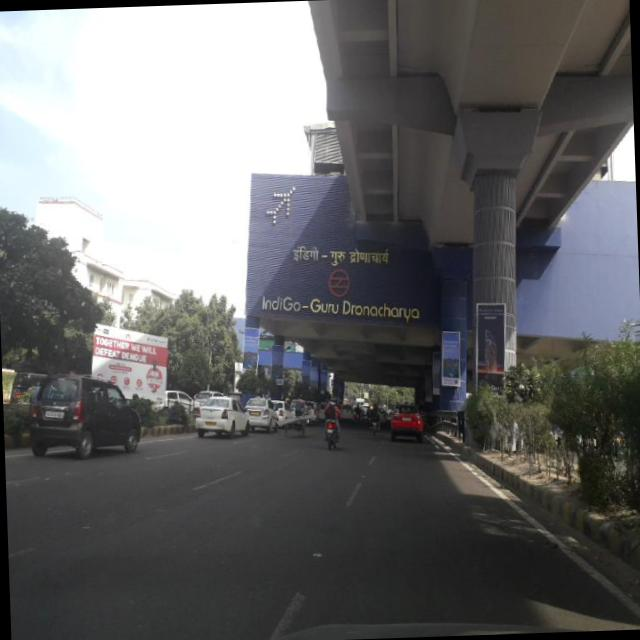crack: (7, 472, 188, 556)
